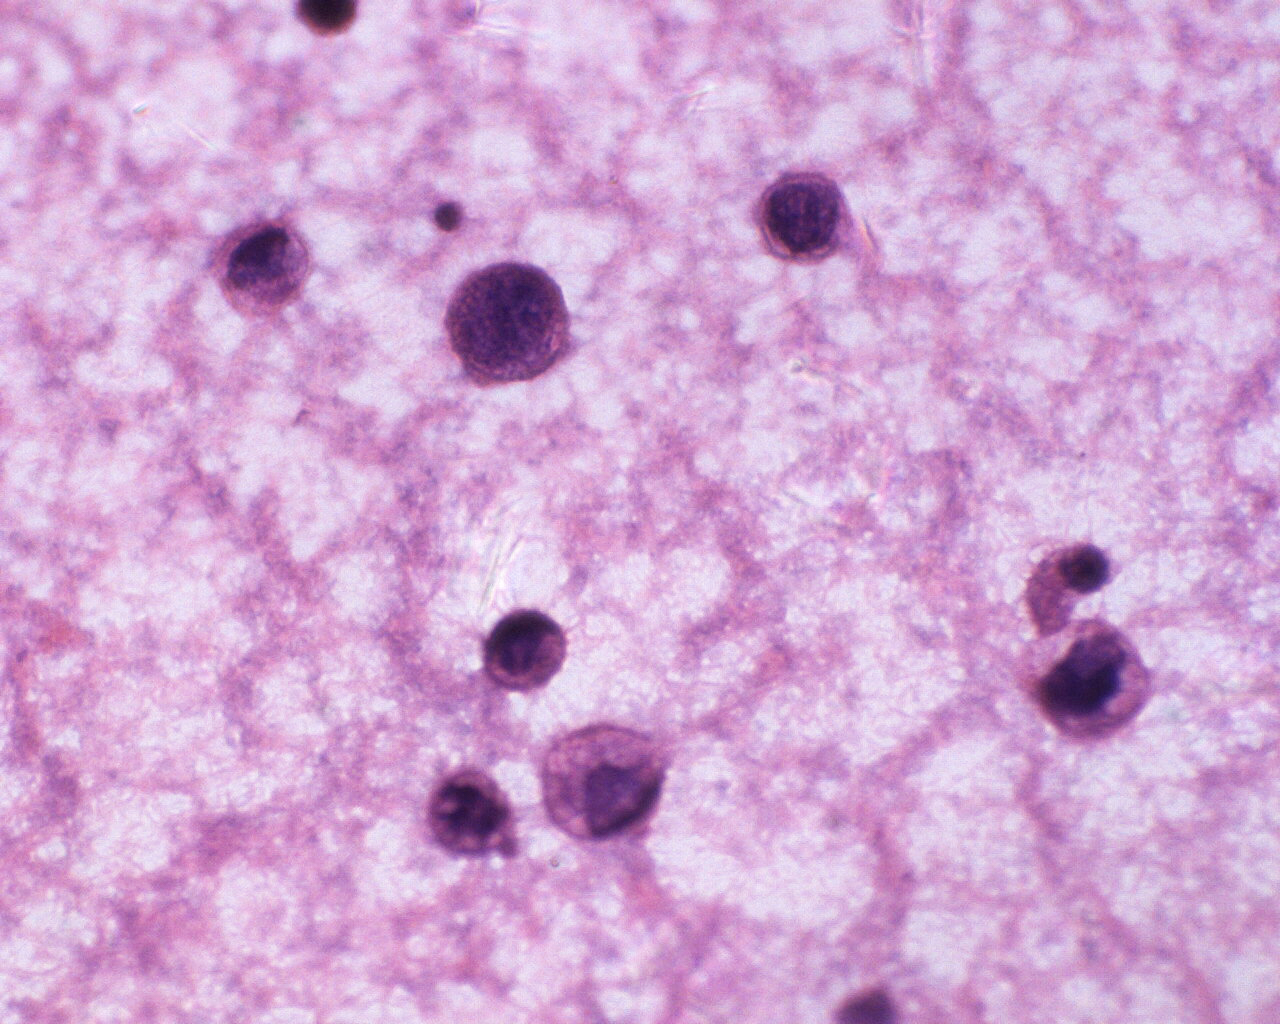ab: (1021, 616, 1156, 747), (438, 262, 573, 391), (540, 715, 671, 844), (208, 217, 318, 323), (750, 166, 852, 270), (427, 767, 523, 866), (479, 608, 571, 697)
lymph: (428, 196, 476, 240)
